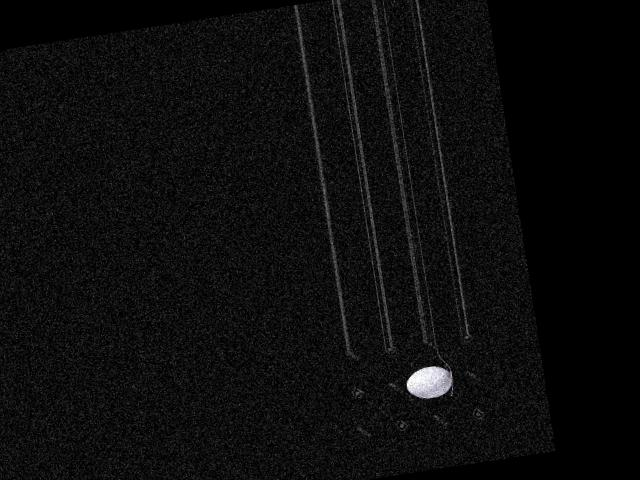egg: (404, 363, 454, 401)
